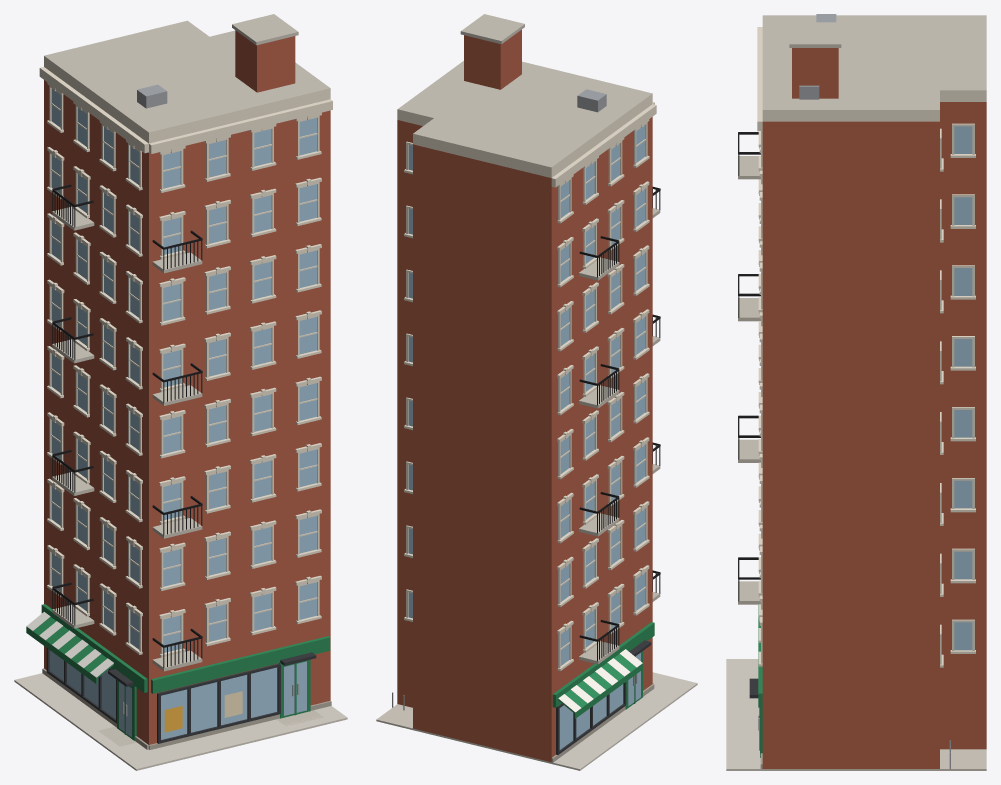
File: Blok_kose_9k_2_Hafif.fbx
3 views of the same model, side by side, from view 1: azimuth 30°, elevation 25°; view 2: azimuth 150°, elevation 25°; view 3: azimuth 270°, elevation 25° (orthographic). The views are drawn at different scales.
Parts seen in each view (by area): view 1: Blok_kose_9k_2_Hafif; view 2: Blok_kose_9k_2_Hafif; view 3: Blok_kose_9k_2_Hafif.
Part boxes in pixels (left/top/right/bottom): Blok_kose_9k_2_Hafif: left=14, top=14, right=347, bottom=770; Blok_kose_9k_2_Hafif: left=376, top=14, right=697, bottom=770; Blok_kose_9k_2_Hafif: left=726, top=14, right=986, bottom=770.
Size of the model in its own units: 10.02 by 30.37 by 10.
